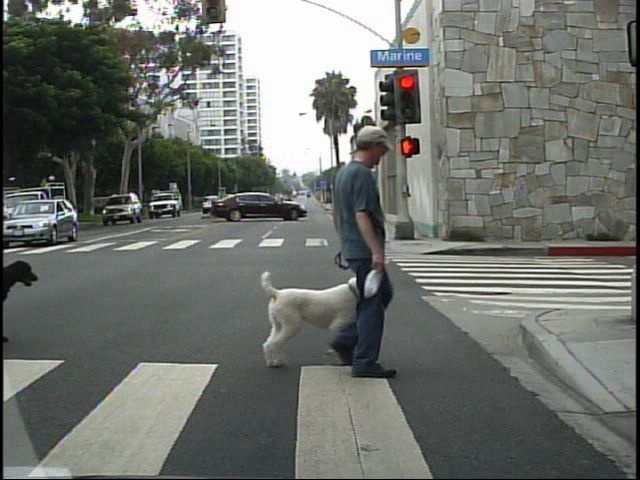person: (304, 113, 411, 380)
